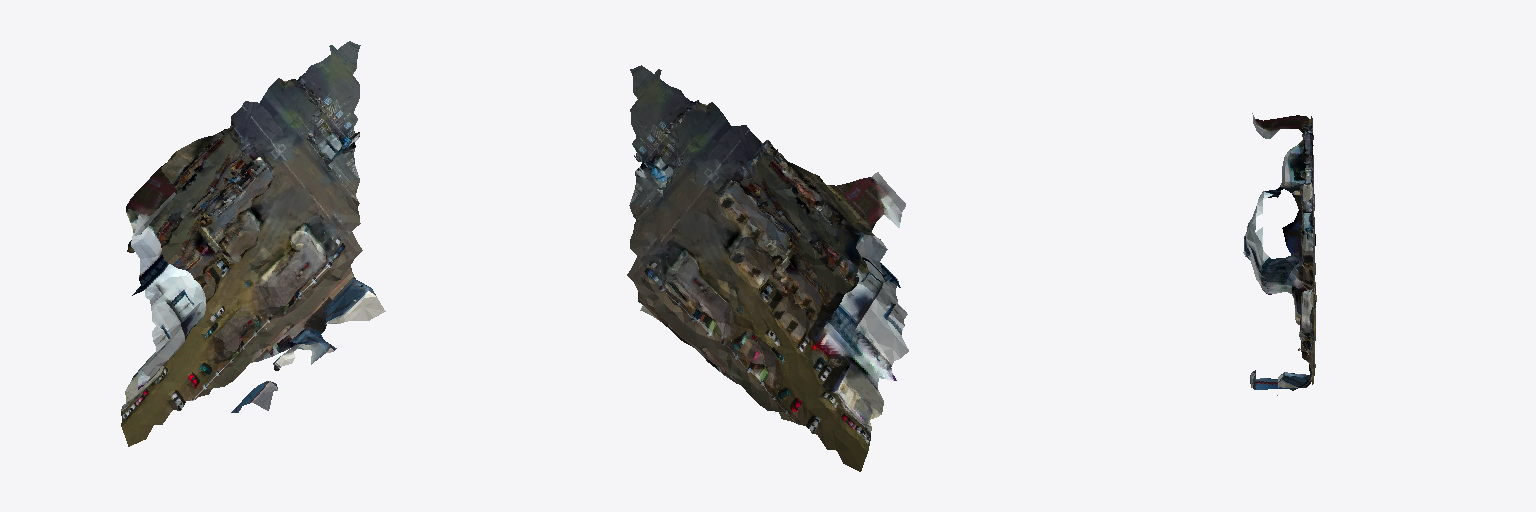
3 renders of one model, left to right at view 1: azimuth 30°, elevation 25°; view 2: azimuth 150°, elevation 25°; view 3: azimuth 270°, elevation 25°, orthographic.
Size of the model in its own units: 71.04 by 93.15 by 17.47.
Materials: 1 (1 with a texture image).